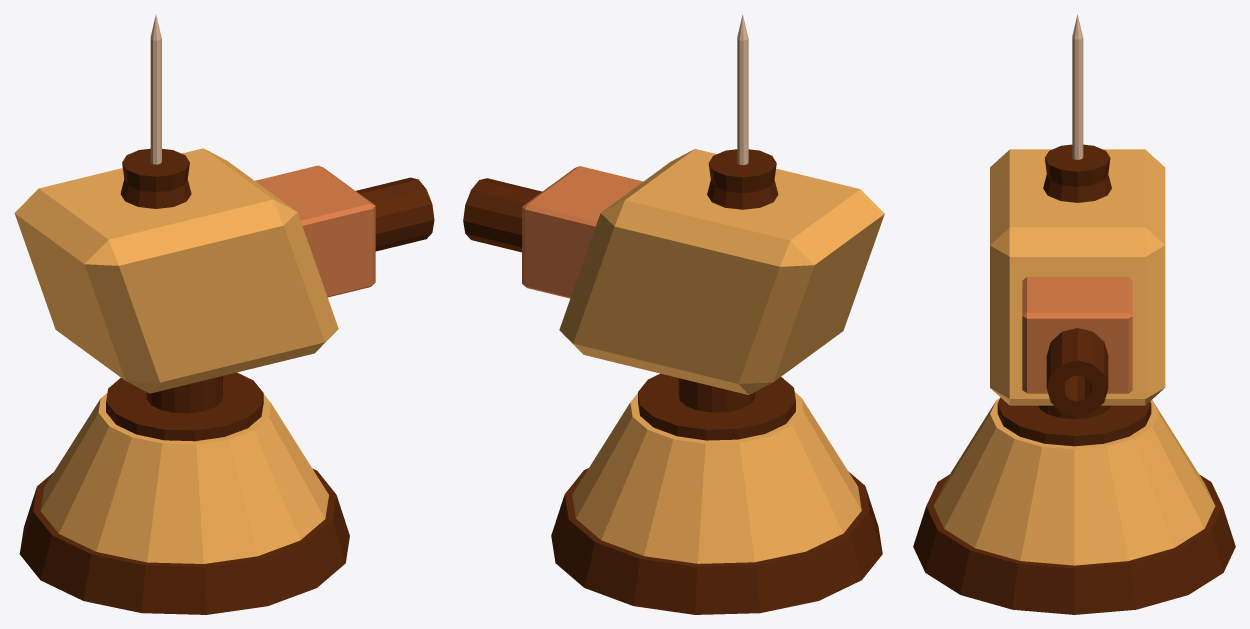
Rendered from kurdanatarv3.fbx.
3 views of the same model, side by side, from view 1: azimuth 30°, elevation 25°; view 2: azimuth 150°, elevation 25°; view 3: azimuth 270°, elevation 25° (orthographic). The views are drawn at different scales.
Visible parts, largest first — view 1: kurdanatar_ust, kurdanatar_alt; view 2: kurdanatar_ust, kurdanatar_alt; view 3: kurdanatar_alt, kurdanatar_ust.
Part boxes in pixels (left/top/right/bottom): kurdanatar_ust: left=14, top=15, right=434, bottom=393; kurdanatar_alt: left=19, top=372, right=349, bottom=614; kurdanatar_ust: left=463, top=14, right=884, bottom=394; kurdanatar_alt: left=551, top=373, right=882, bottom=614; kurdanatar_alt: left=913, top=397, right=1235, bottom=614; kurdanatar_ust: left=990, top=14, right=1165, bottom=416.
Size of the model in its own units: 263 by 355 by 200.
2 materials, 2 textured.
